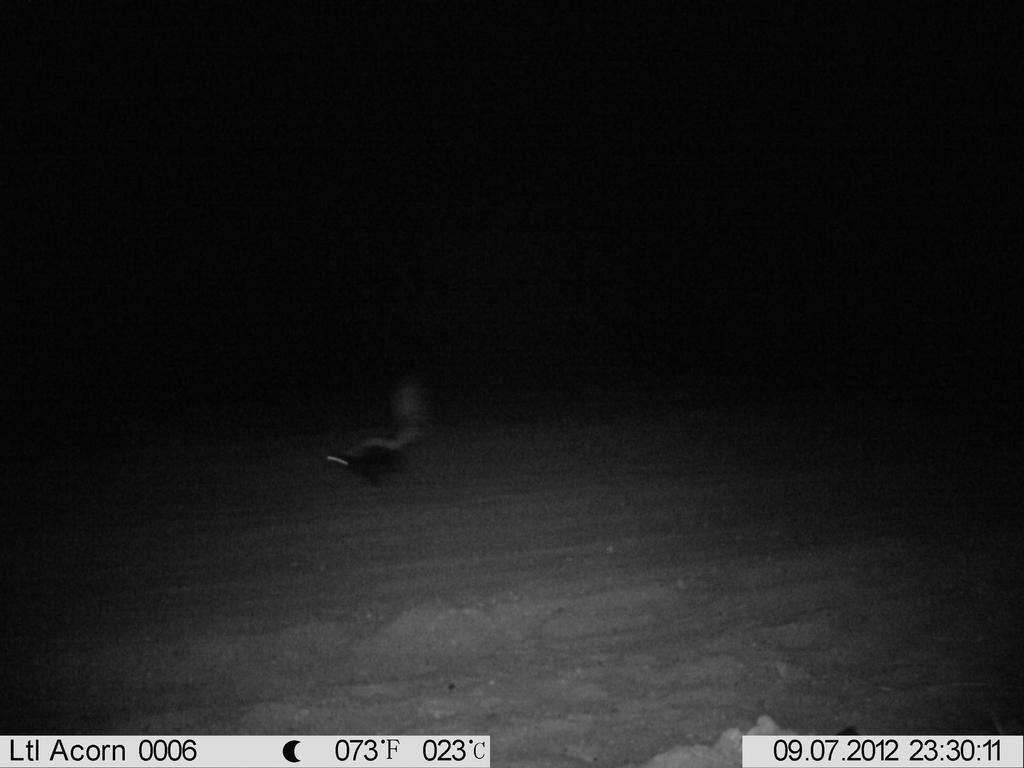skunk: (310, 364, 443, 496)
